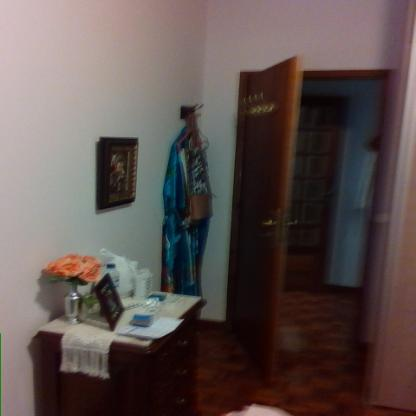open: (221, 40, 414, 384)
